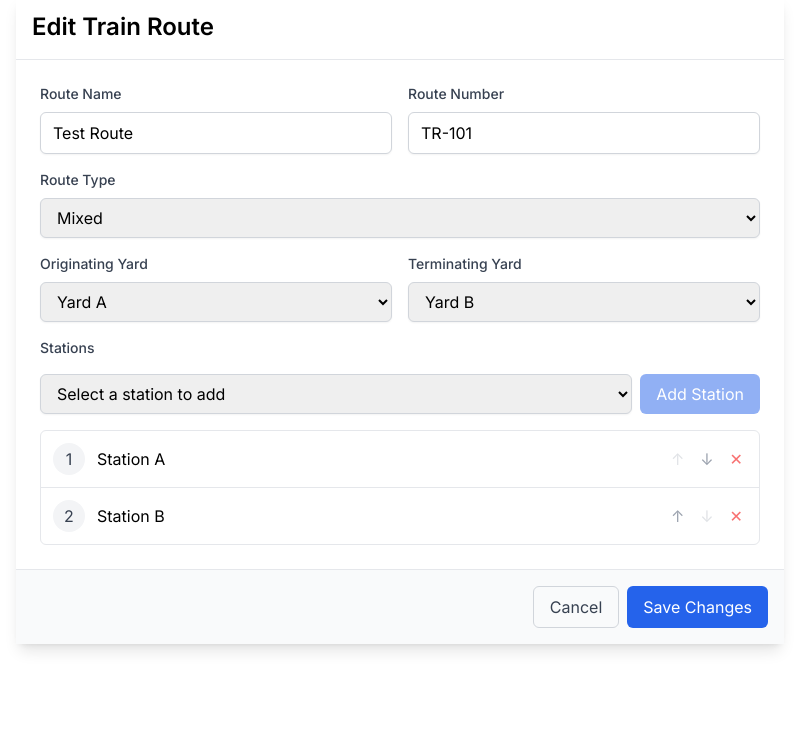
Scenario: TrainRouteForm › shows error message when save fails
The image size is (801, 740).
Note: Submit the form
Click the button "Save Changes": x=698, y=607 [627, 586, 768, 628]
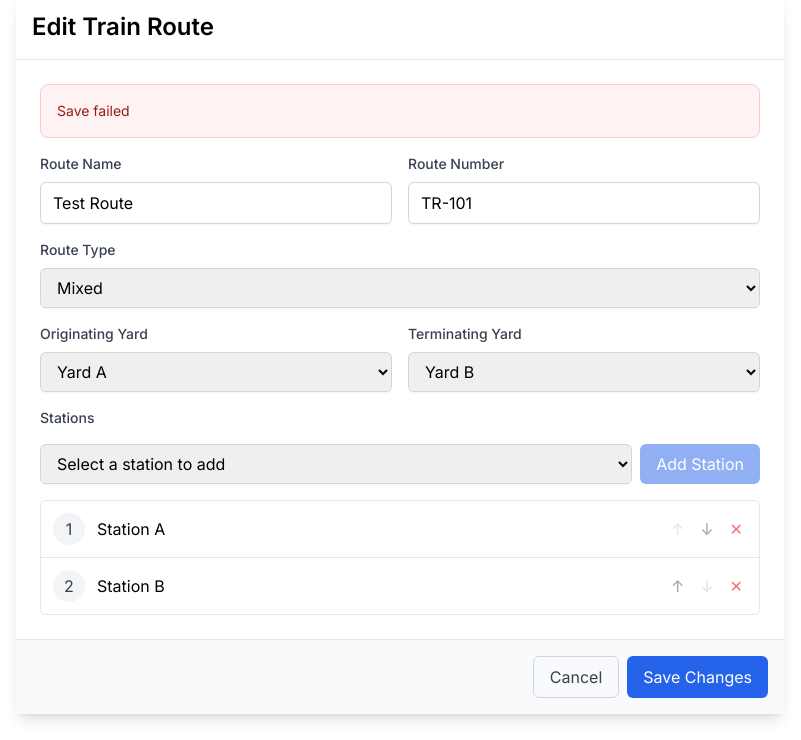
expect the text "Save failed" is shown: met, box [57, 102, 130, 119]
